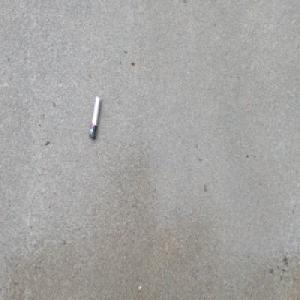Battery: (88, 93, 100, 139)
